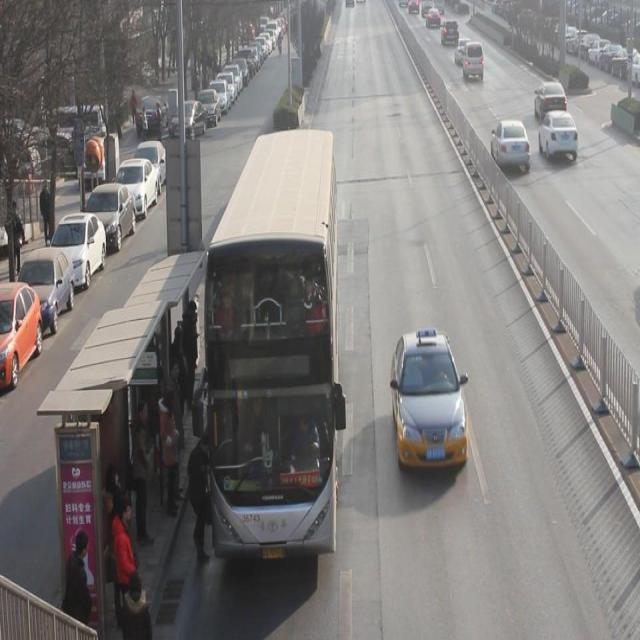car: (390, 330, 471, 478), (536, 110, 579, 164), (490, 120, 532, 172), (533, 81, 568, 122), (440, 18, 460, 48), (454, 38, 472, 65)
truck: (461, 41, 485, 82)
van: (206, 131, 338, 550)
